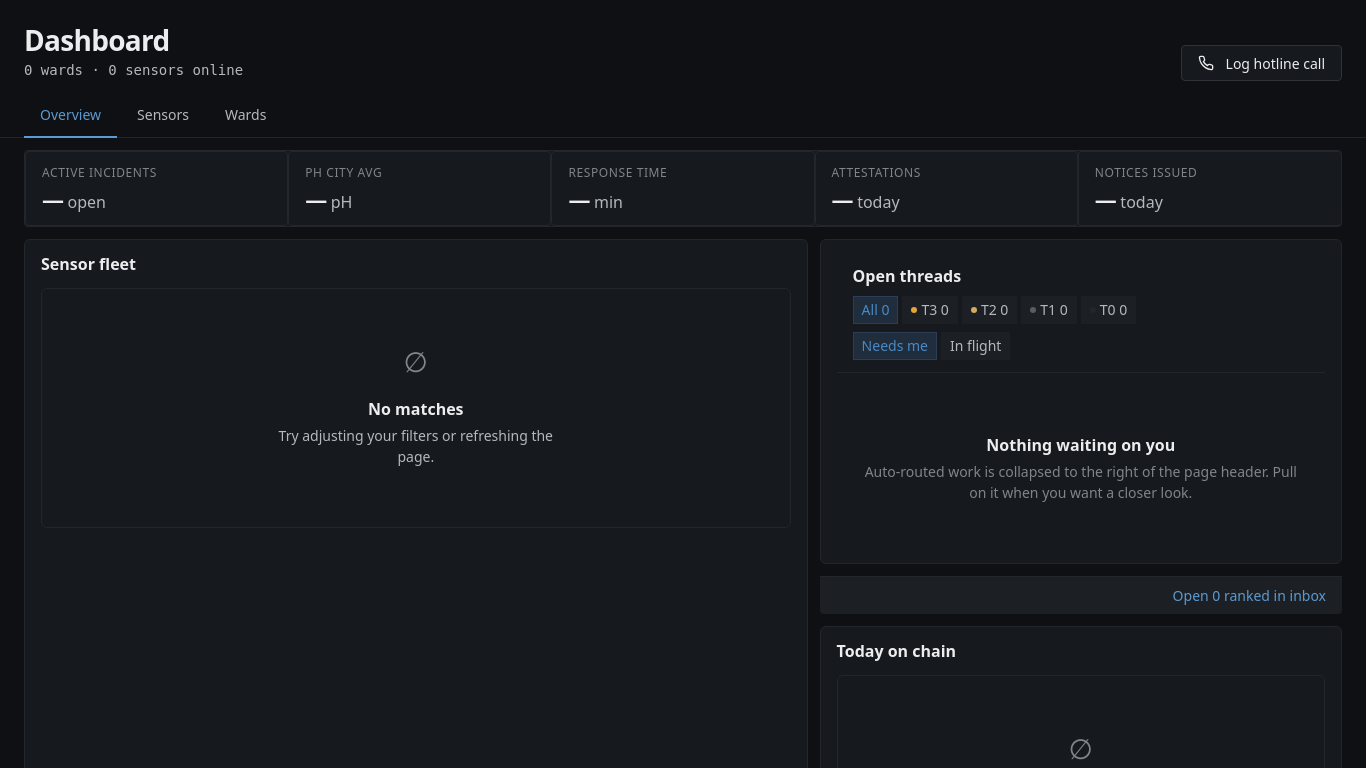
Test case: WO-004 Operator Dashboard reconciliation › mounts the hotline button and opens HotlineIntakeModal on click
Click the button with test id "dashboard-log-hotline-call".
click(1261, 63)  # box [1180,45,1342,81]
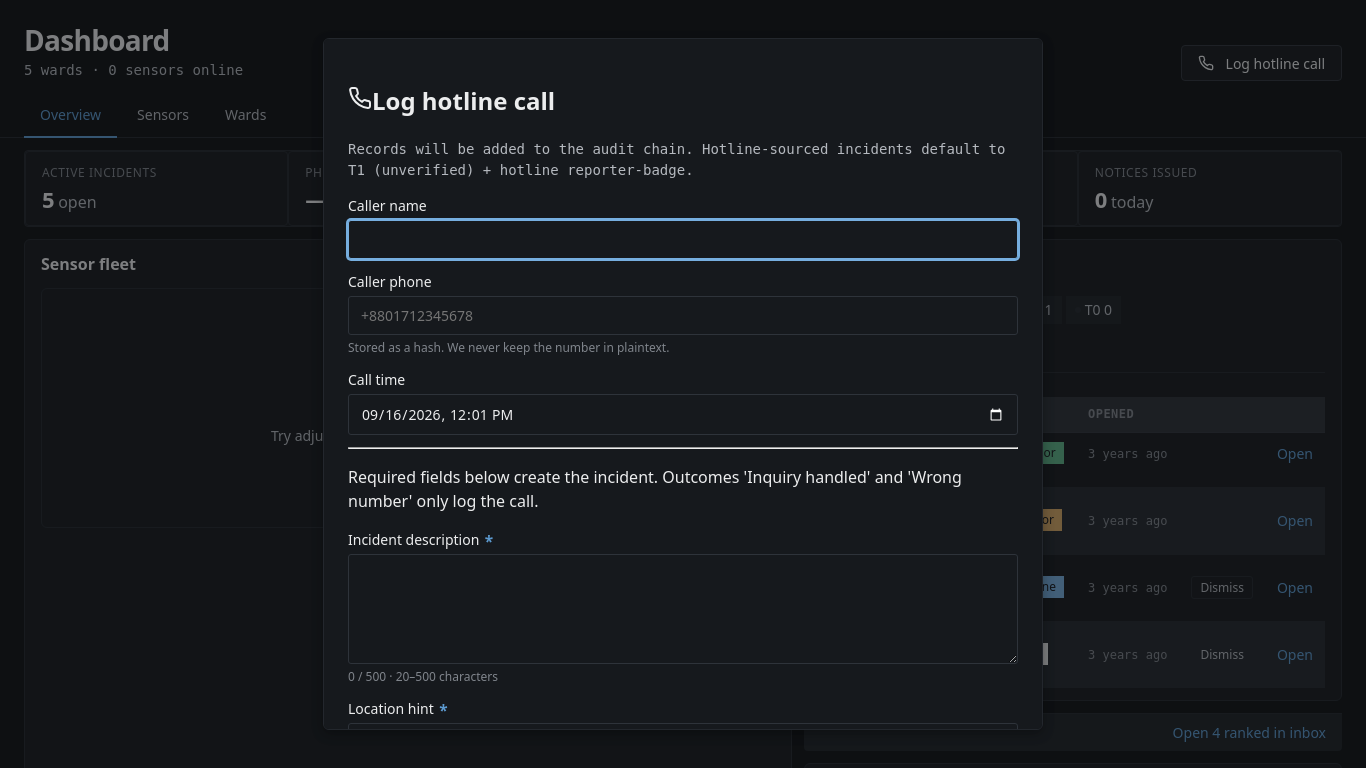
expect the element with test id "hotline-intake-modal" is shown: met
